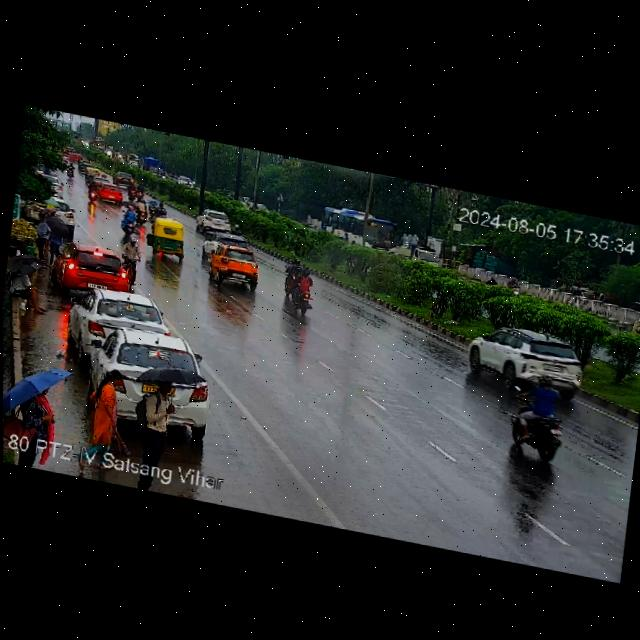bus: (322, 202, 402, 256)
car: (84, 322, 217, 433), (470, 325, 592, 399), (65, 281, 168, 352), (51, 238, 134, 298), (201, 240, 265, 291), (146, 219, 189, 261), (197, 208, 238, 237), (89, 180, 127, 207), (411, 243, 443, 270), (113, 170, 139, 189)
motorcycle: (507, 371, 571, 467), (278, 258, 325, 318), (117, 206, 141, 239), (140, 196, 171, 221), (502, 273, 527, 297)
person: (80, 365, 127, 468), (133, 376, 178, 472), (9, 379, 62, 453), (5, 255, 48, 311), (41, 212, 70, 258), (34, 212, 56, 256)
truck: (142, 156, 168, 179), (90, 135, 109, 154)
